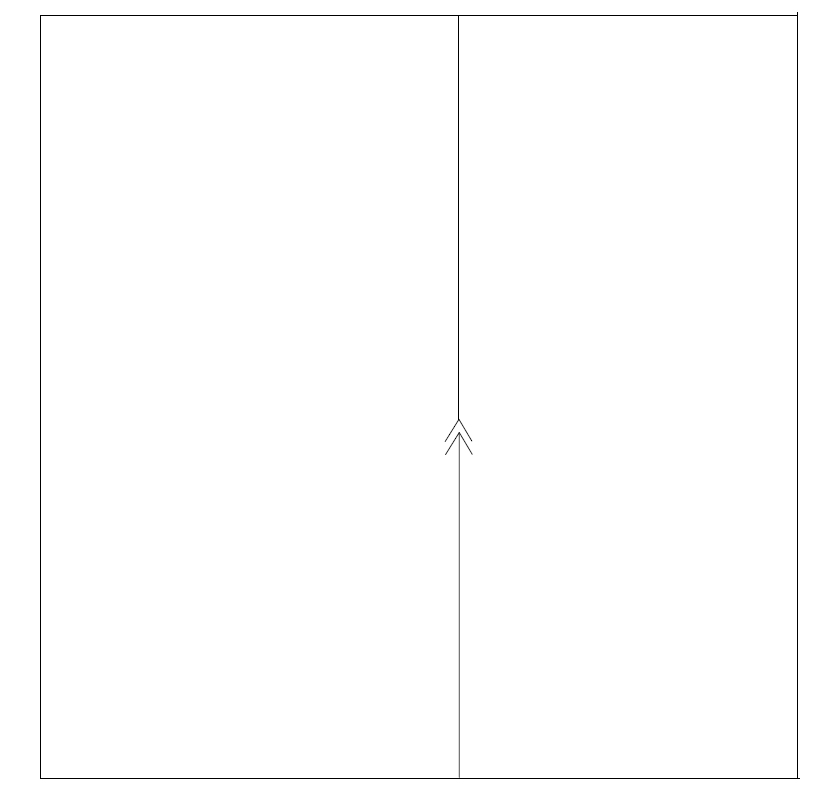LTERMNLB: (434, 410, 485, 469)
